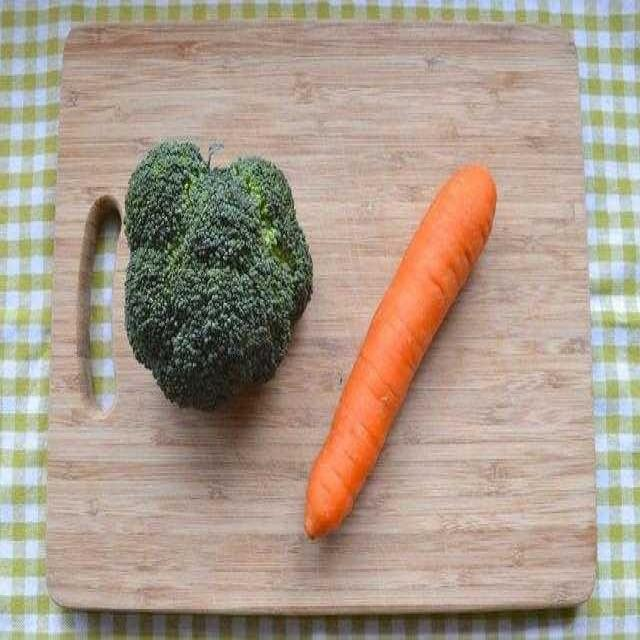carrots: (315, 166, 493, 534)
